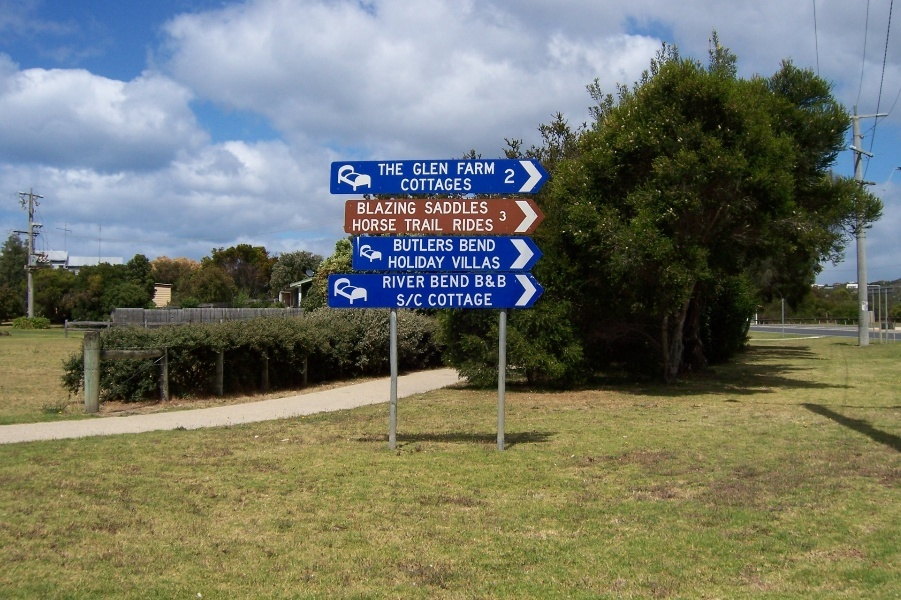text: (433, 274, 448, 289), (449, 274, 464, 289), (481, 274, 496, 289), (401, 293, 416, 307), (465, 162, 480, 176), (433, 201, 448, 215), (449, 201, 464, 215), (465, 201, 480, 215), (401, 238, 416, 252), (417, 238, 432, 252), (433, 238, 448, 252), (401, 255, 416, 269), (417, 255, 432, 269), (465, 256, 480, 270), (481, 256, 496, 270), (433, 293, 448, 307), (449, 293, 464, 307), (465, 293, 480, 307), (433, 163, 449, 176), (401, 202, 417, 215), (481, 239, 497, 252), (481, 162, 495, 176), (385, 163, 400, 176), (417, 163, 432, 176), (401, 178, 416, 191), (417, 178, 432, 191), (433, 178, 448, 191), (449, 178, 464, 191), (369, 202, 384, 215), (385, 202, 400, 215), (353, 219, 368, 232), (369, 219, 384, 232), (417, 219, 432, 232), (465, 219, 480, 232), (465, 239, 480, 252), (385, 276, 400, 289), (401, 276, 416, 289), (433, 255, 446, 269), (481, 219, 494, 232), (452, 256, 464, 270), (481, 293, 493, 307), (385, 219, 397, 232), (389, 255, 400, 269), (500, 210, 512, 222), (405, 219, 416, 232), (433, 219, 444, 232), (453, 219, 464, 232), (497, 274, 506, 289), (504, 168, 512, 184), (359, 202, 368, 215), (417, 276, 426, 289), (481, 201, 489, 215), (465, 178, 473, 191), (417, 293, 424, 307), (425, 201, 432, 215), (393, 238, 400, 252), (465, 274, 471, 289), (458, 162, 464, 176), (378, 163, 384, 176), (475, 274, 480, 289), (449, 238, 454, 252), (459, 239, 464, 252), (497, 256, 501, 270), (428, 293, 432, 307), (513, 168, 516, 184), (401, 163, 404, 176), (413, 163, 416, 176), (430, 274, 432, 289), (398, 293, 400, 307), (382, 276, 384, 289)
